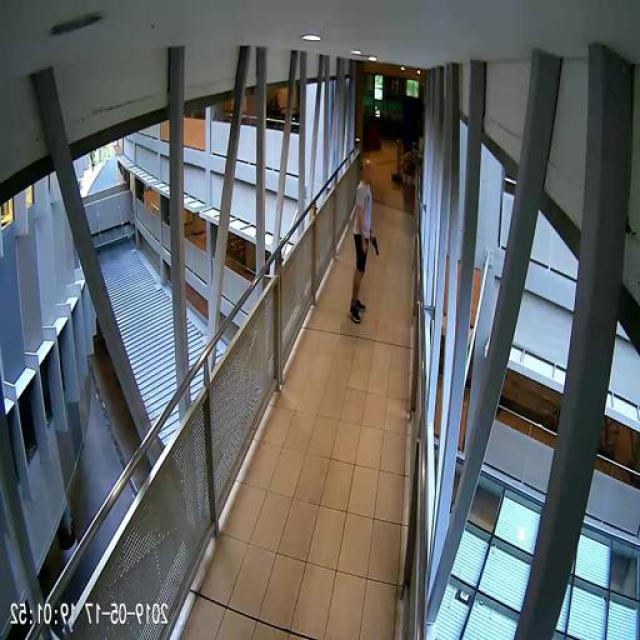Gun: (372, 234, 380, 254)
